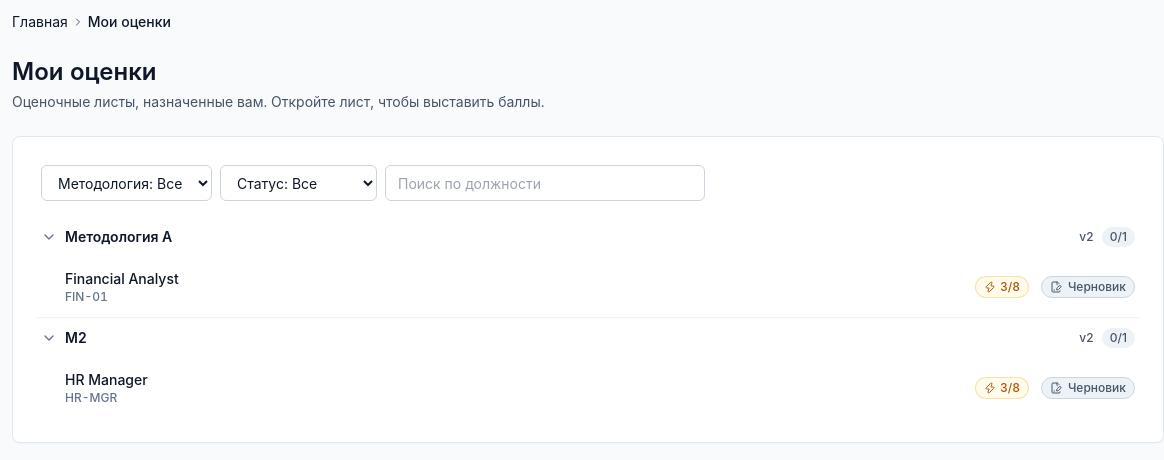
Test case: <MyEvaluationsPage /> (Feature 1 + Part 4) › position search input filters rows by title/code (case-insensitive)
In the search field with test id "my-evaluations-filter-search": (545,183) [385, 165, 705, 201], type "financial"
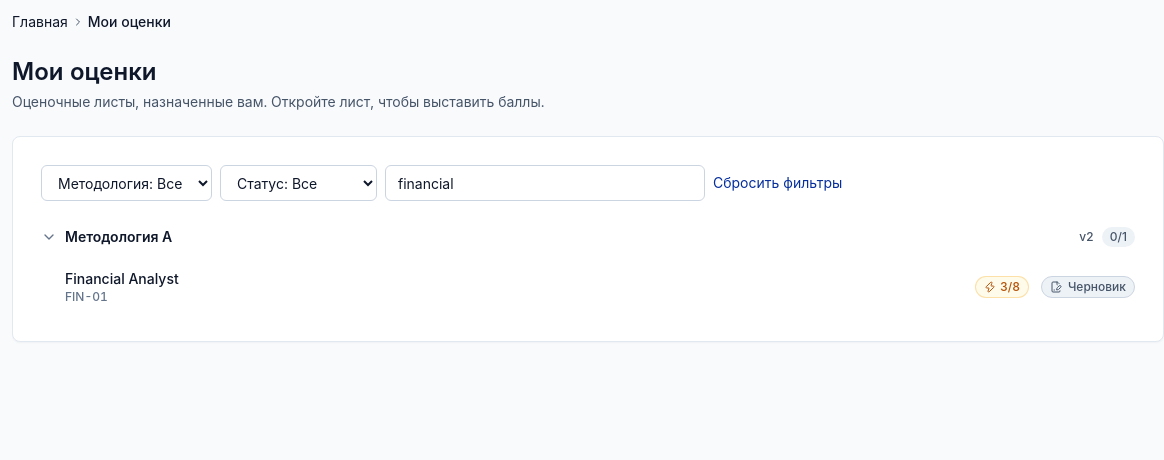
Check: the link with test id "open-my-evaluation-eval-p1" is shown, box [65, 270, 1135, 304]
Check: the link with test id "open-my-evaluation-eval-p2" is gone
